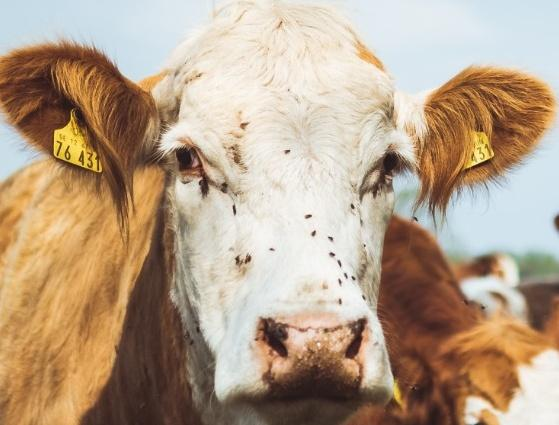muzzles: (228, 305, 398, 421)
